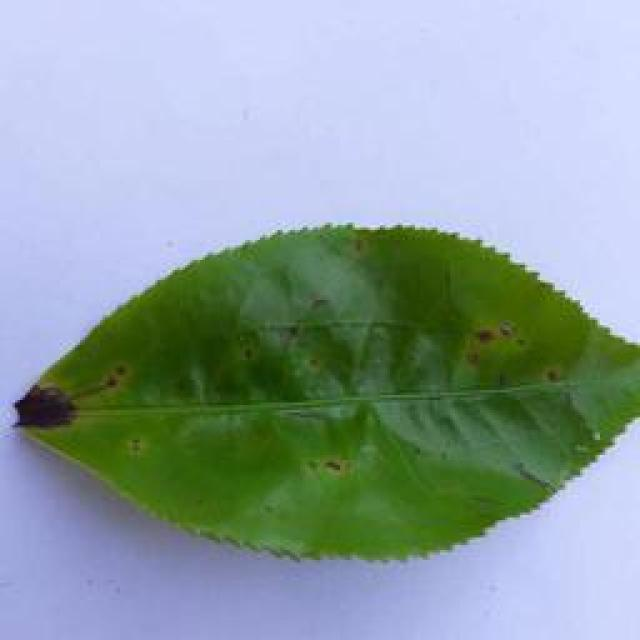Helopeltis: (7, 212, 640, 569)
